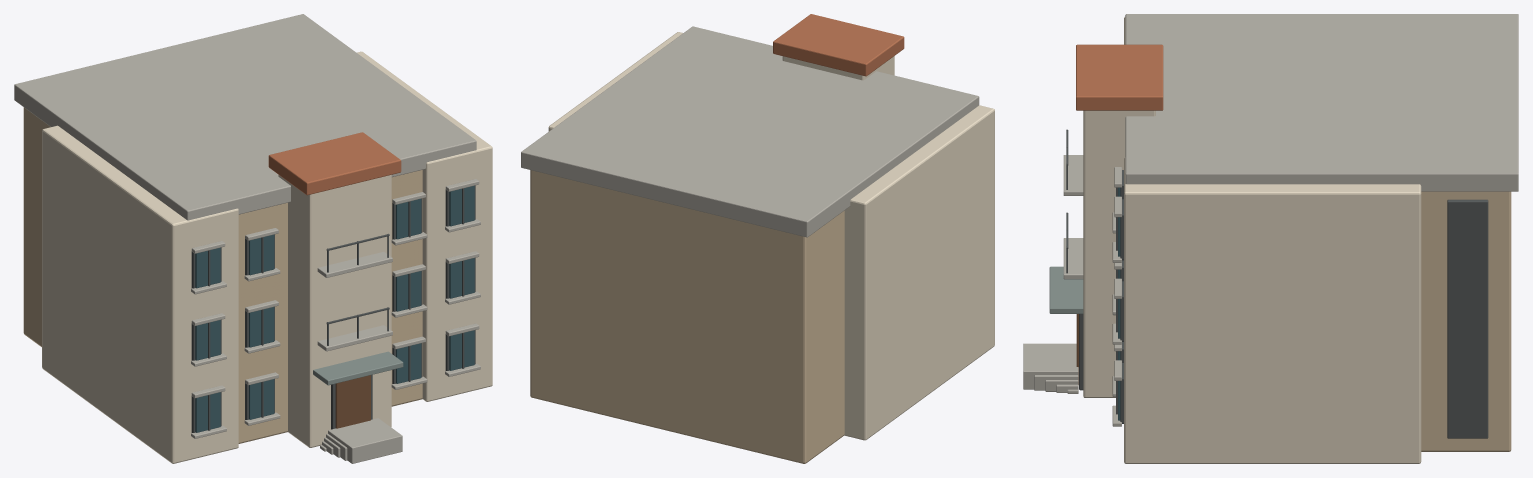
The model's file is ApartmentSmall_01.fbx.
The picture shows the model from 3 angles, left to right: view 1: azimuth 30°, elevation 25°; view 2: azimuth 150°, elevation 25°; view 3: azimuth 270°, elevation 25°; orthographic projection. The views are drawn at different scales.
Parts seen in each view (by area): view 1: Apartment_Parapet, Apartment_LeftBay, Apartment_StairTower, Apartment_Core, Apartment_RightBay, Apartment_TowerCap, Apartment_EntrySteps_5, Apartment_MainDoor, Apartment_EntryCanopy, Apartment_Window_2.0_-3.3_Glass, Apartment_Window_5.1_3.3_Glass, Apartment_Window_5.1_-3.3_Glass (+11 smaller); view 2: Apartment_Core, Apartment_Parapet, Apartment_LeftBay, Apartment_TowerCap, Apartment_RightBay, Apartment_StairTower; view 3: Apartment_RightBay, Apartment_Parapet, Apartment_Core, Apartment_RearStair, Apartment_StairTower, Apartment_TowerCap, Apartment_EntrySteps_5, Apartment_EntryCanopy, Apartment_Balcony_5.0, Apartment_Balcony_8.15.
Boxes of the visible parts, <box> form: Apartment_Parapet: <box>14,14,476,220</box>; Apartment_LeftBay: <box>42,125,238,463</box>; Apartment_StairTower: <box>278,174,391,447</box>; Apartment_Core: <box>23,107,422,443</box>; Apartment_RightBay: <box>357,51,492,401</box>; Apartment_TowerCap: <box>268,132,401,195</box>; Apartment_EntrySteps_5: <box>328,418,402,463</box>; Apartment_MainDoor: <box>335,375,370,428</box>; Apartment_EntryCanopy: <box>313,351,403,385</box>; Apartment_Window_2.0_-3.3_Glass: <box>249,379,274,419</box>; Apartment_Window_5.1_3.3_Glass: <box>396,271,421,311</box>; Apartment_Window_5.1_-3.3_Glass: <box>249,307,274,347</box>; Apartment_Core: <box>530,170,844,463</box>; Apartment_Parapet: <box>521,26,979,237</box>; Apartment_LeftBay: <box>844,105,994,440</box>; Apartment_TowerCap: <box>773,14,904,76</box>; Apartment_RightBay: <box>548,32,682,131</box>; Apartment_StairTower: <box>782,56,894,80</box>; Apartment_RightBay: <box>1124,157,1421,463</box>; Apartment_Parapet: <box>1125,14,1518,191</box>; Apartment_Core: <box>1421,191,1511,451</box>; Apartment_RearStair: <box>1447,199,1488,438</box>; Apartment_StairTower: <box>1083,110,1155,397</box>; Apartment_TowerCap: <box>1076,44,1163,110</box>; Apartment_EntrySteps_5: <box>1023,343,1078,389</box>; Apartment_EntryCanopy: <box>1049,266,1083,313</box>; Apartment_Balcony_5.0: <box>1063,238,1083,279</box>; Apartment_Balcony_8.15: <box>1063,155,1083,195</box>.
Bounding box in the file's own units: 14.4 × 11.7 × 17.01.
